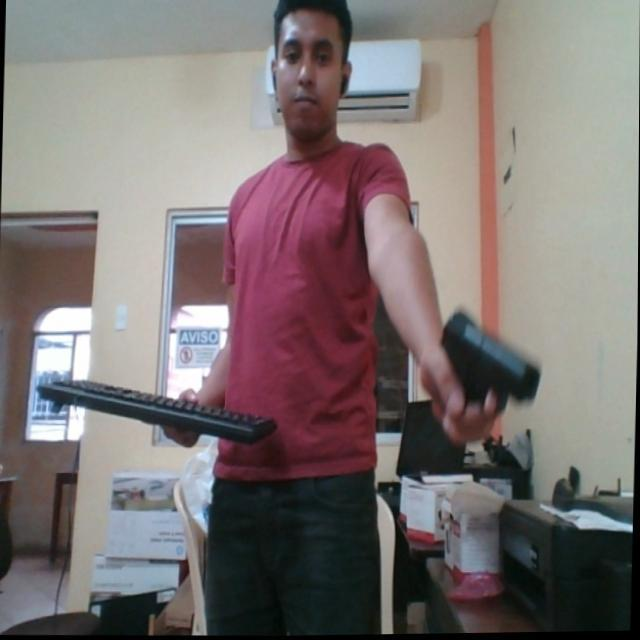weapon: (428, 311, 551, 418)
